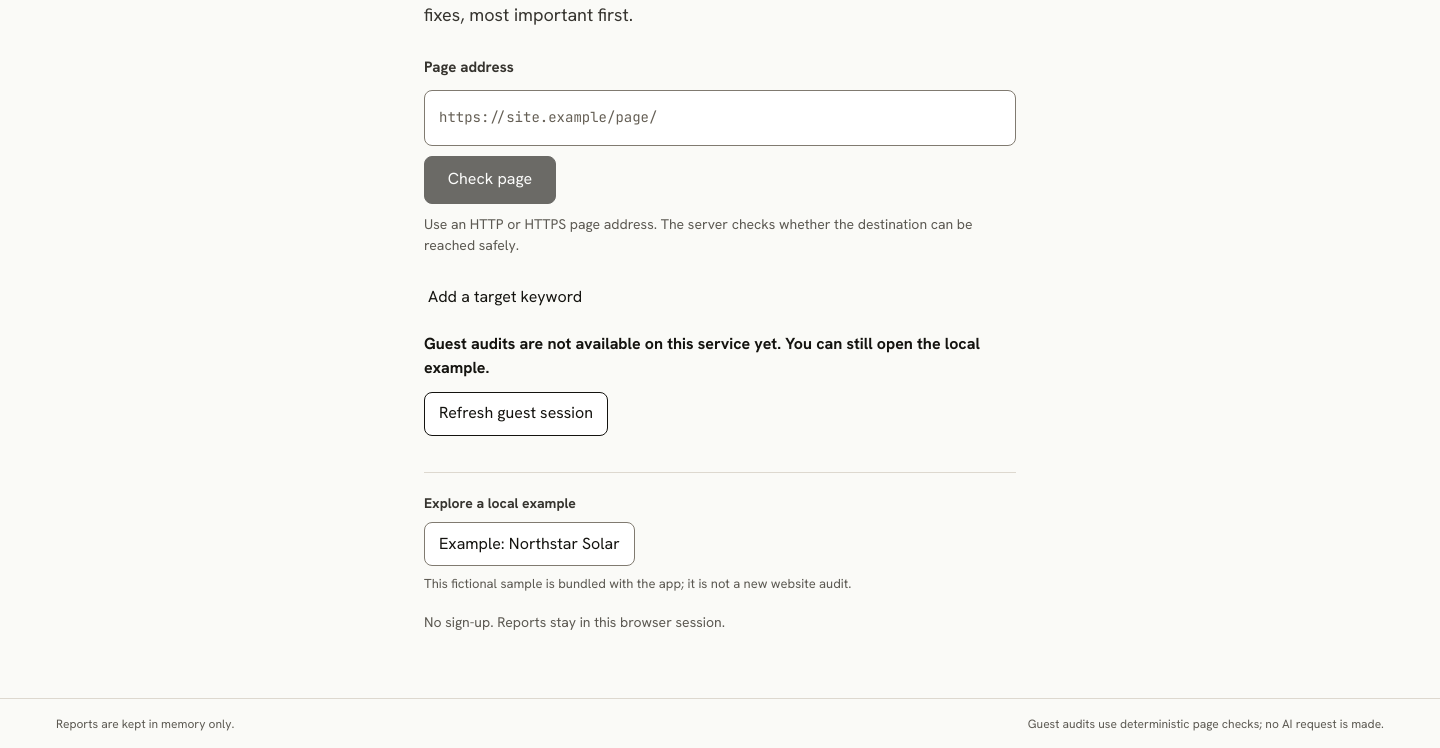
Test case: public guest audit journey › does not fabricate a live result when guest endpoints are unavailable
This screenshot has width=1440, height=748.
(page scrolled)
Check: the message shows "Guest audits are not available", box [424, 332, 980, 378]
Click the button "Example: Northstar Solar": (529, 544) [424, 522, 635, 566]
(page scrolled)
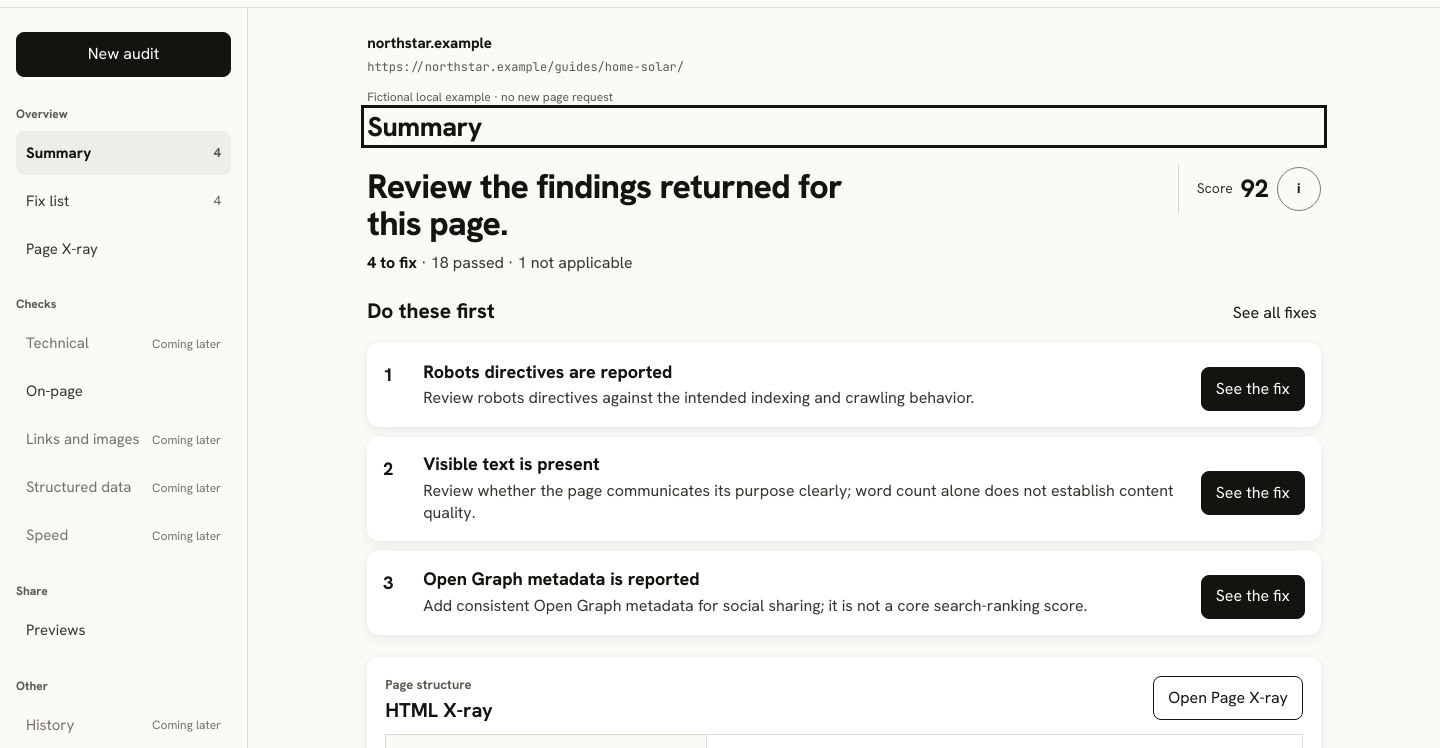
Check: the text "Fictional local example · no new page request" is shown, box [367, 88, 613, 107]
